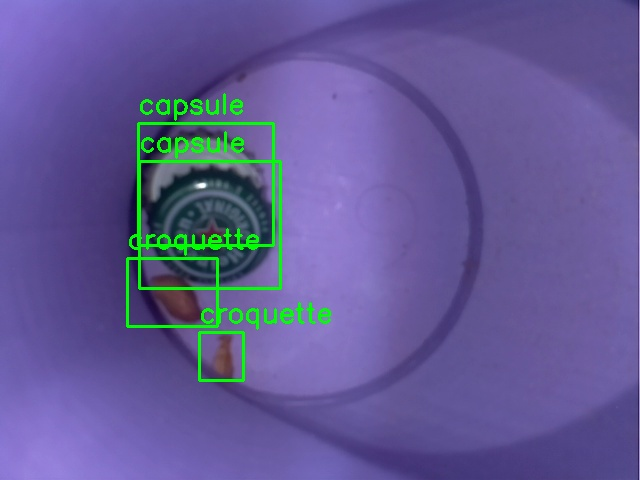capsule: (139, 161, 280, 288), (138, 123, 273, 245)
croquette: (127, 258, 217, 326), (199, 332, 243, 380)
